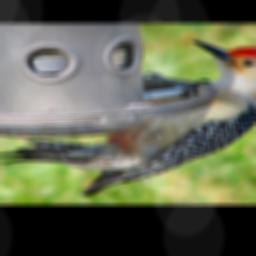Woodpecker: (0, 40, 256, 197)
